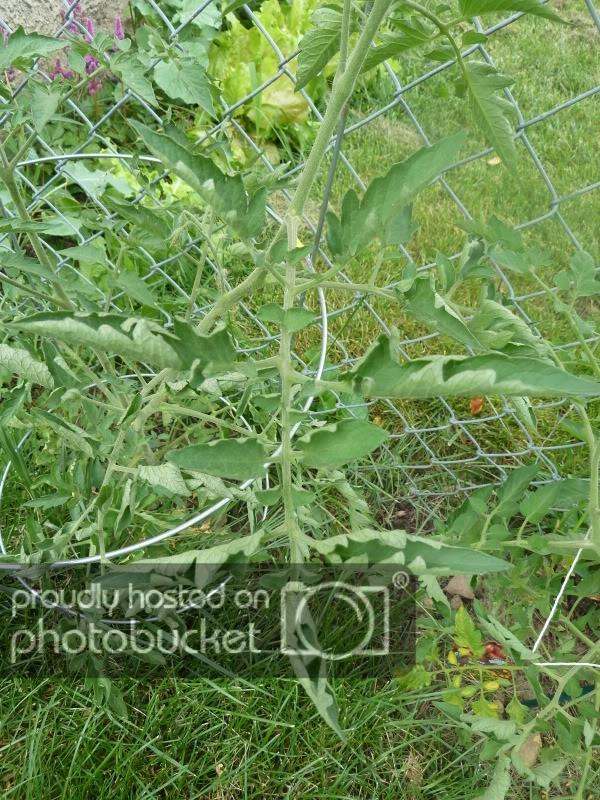Tomato mold leaf: (323, 129, 473, 259), (345, 334, 589, 411), (20, 314, 255, 376), (288, 417, 393, 482), (163, 438, 269, 487)
